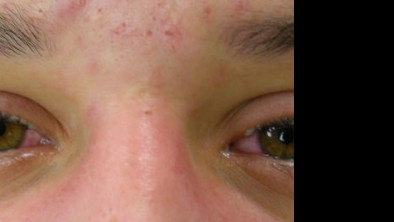SJS-TEN: (46, 0, 258, 54)
